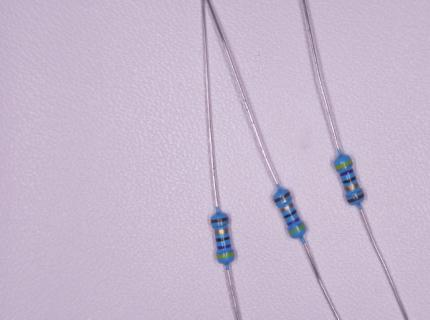Black band: (283, 209, 297, 220), (342, 176, 357, 185), (216, 236, 230, 243)
Brown band: (273, 192, 291, 204), (348, 193, 365, 205), (211, 217, 229, 224)
Gold band: (345, 183, 359, 192), (281, 203, 294, 212), (215, 229, 229, 235)
Violet band: (287, 217, 300, 226), (340, 168, 354, 176), (217, 244, 231, 250)
Yellow band: (289, 224, 305, 235), (335, 160, 352, 169), (217, 252, 234, 258)
